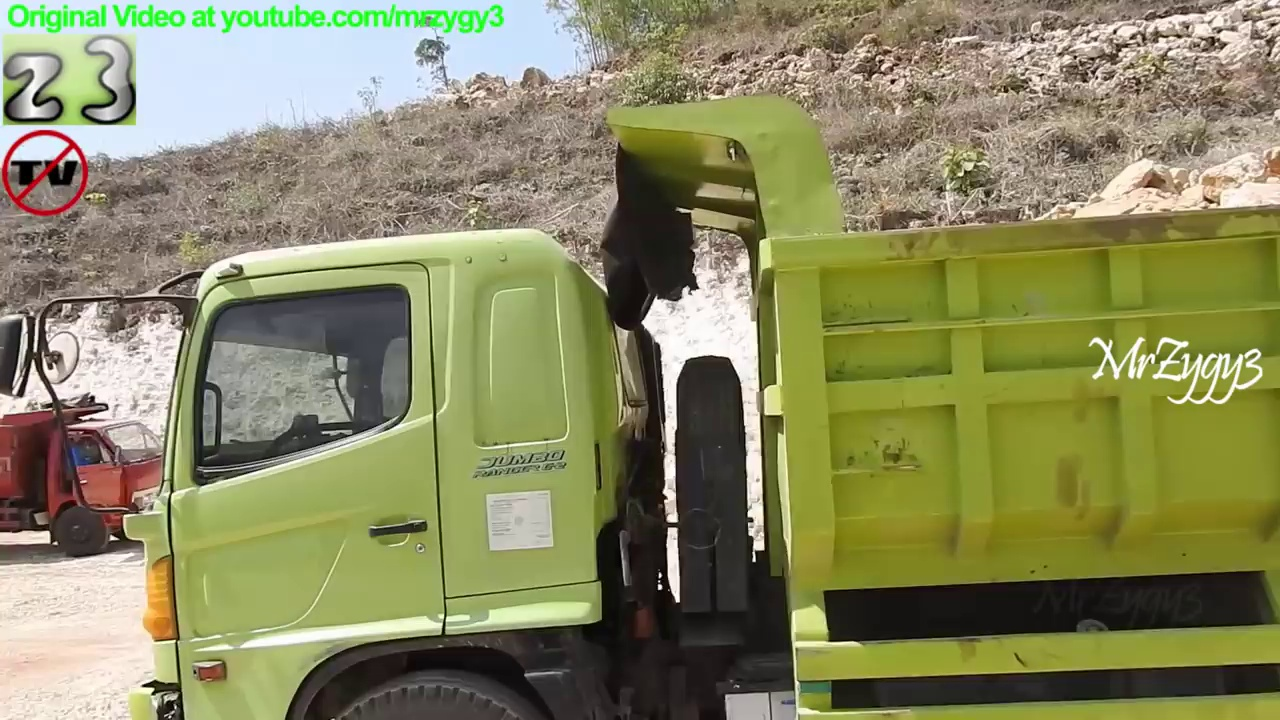truck: (1, 85, 1280, 720), (1, 395, 196, 567)
